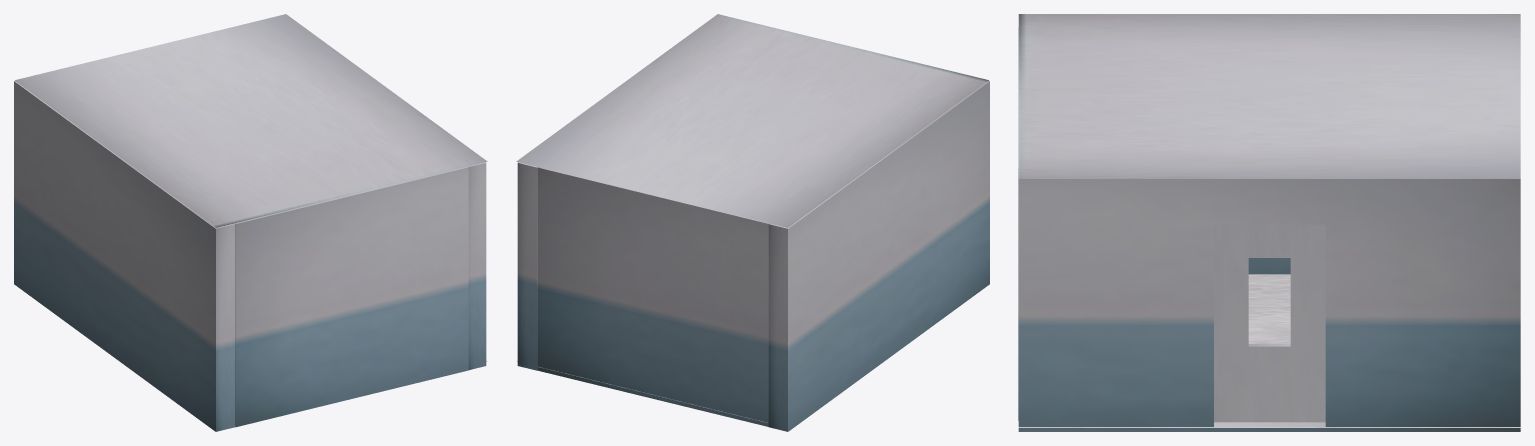
Rendered from room closed.fbx.
3 views of the same model, side by side, from view 1: azimuth 30°, elevation 25°; view 2: azimuth 150°, elevation 25°; view 3: azimuth 270°, elevation 25° (orthographic). The views are drawn at different scales.
Parts seen in each view (by area): view 1: walldoorway; view 2: walldoorway; view 3: walldoorway.
Part boxes in pixels (x1,y1,x2,y2): walldoorway: (14,14,487,431); walldoorway: (516,14,989,431); walldoorway: (1018,14,1520,431).
Bounding box in the file's own units: 350 × 251 × 450.
